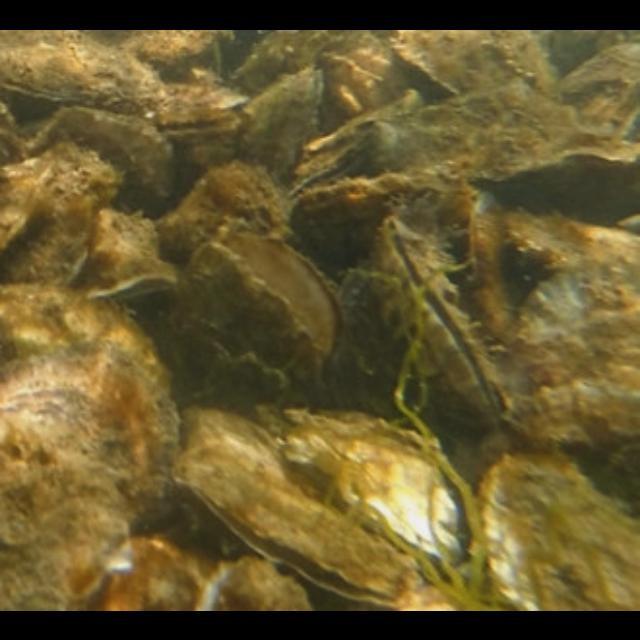Oyster-Closed: (0, 284, 179, 609), (176, 406, 420, 608), (253, 407, 486, 571), (478, 454, 638, 609), (369, 84, 586, 181), (523, 265, 638, 444), (224, 29, 406, 135), (0, 142, 124, 286), (30, 105, 177, 215), (153, 160, 293, 264), (473, 185, 561, 347), (380, 29, 563, 106), (0, 29, 163, 113), (235, 66, 324, 180), (509, 206, 638, 282), (74, 538, 208, 609), (295, 179, 399, 265), (473, 134, 638, 188), (561, 42, 638, 140), (143, 72, 251, 139), (199, 552, 319, 609), (288, 131, 374, 210), (0, 157, 50, 255), (92, 210, 160, 282), (83, 259, 182, 302), (132, 29, 221, 66)
Oyster-Open: (168, 234, 347, 407), (363, 218, 508, 422)
